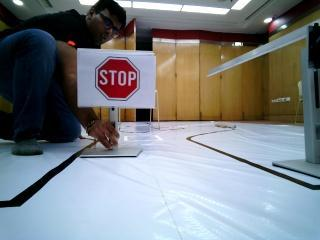stop: (89, 53, 150, 102)
